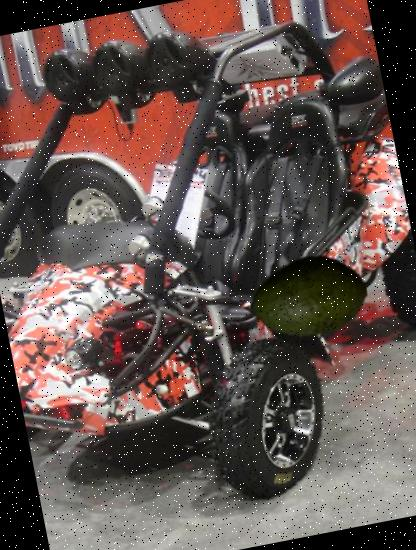Avocado: (240, 227, 376, 364)
